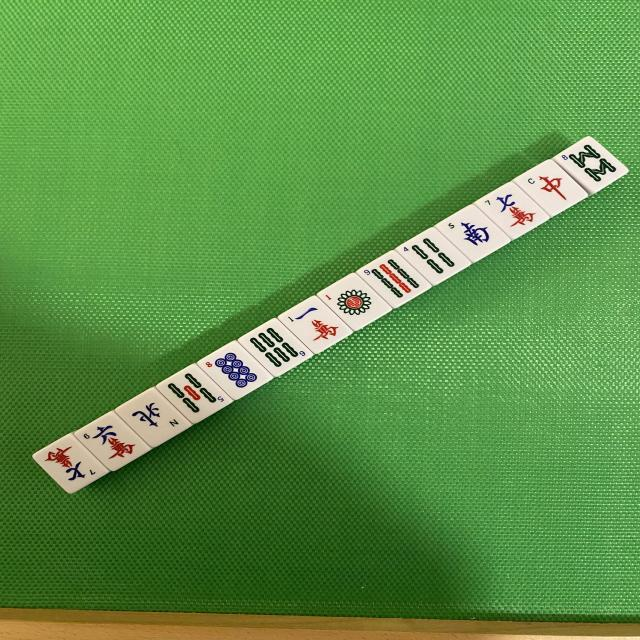hdr: (515, 157, 587, 220)
hwn: (118, 388, 189, 450)
hws: (438, 212, 507, 262)
sb4: (400, 226, 462, 286)
sb5: (158, 362, 232, 426)
sb6: (240, 318, 310, 379)
sb8: (556, 136, 628, 196)
sb9: (361, 249, 427, 309)
sc1: (278, 294, 348, 355)
sc6: (76, 410, 147, 476)
sc7: (478, 179, 550, 242), (37, 433, 104, 496)
sd1: (321, 272, 384, 332)
sd8: (200, 339, 272, 402)
